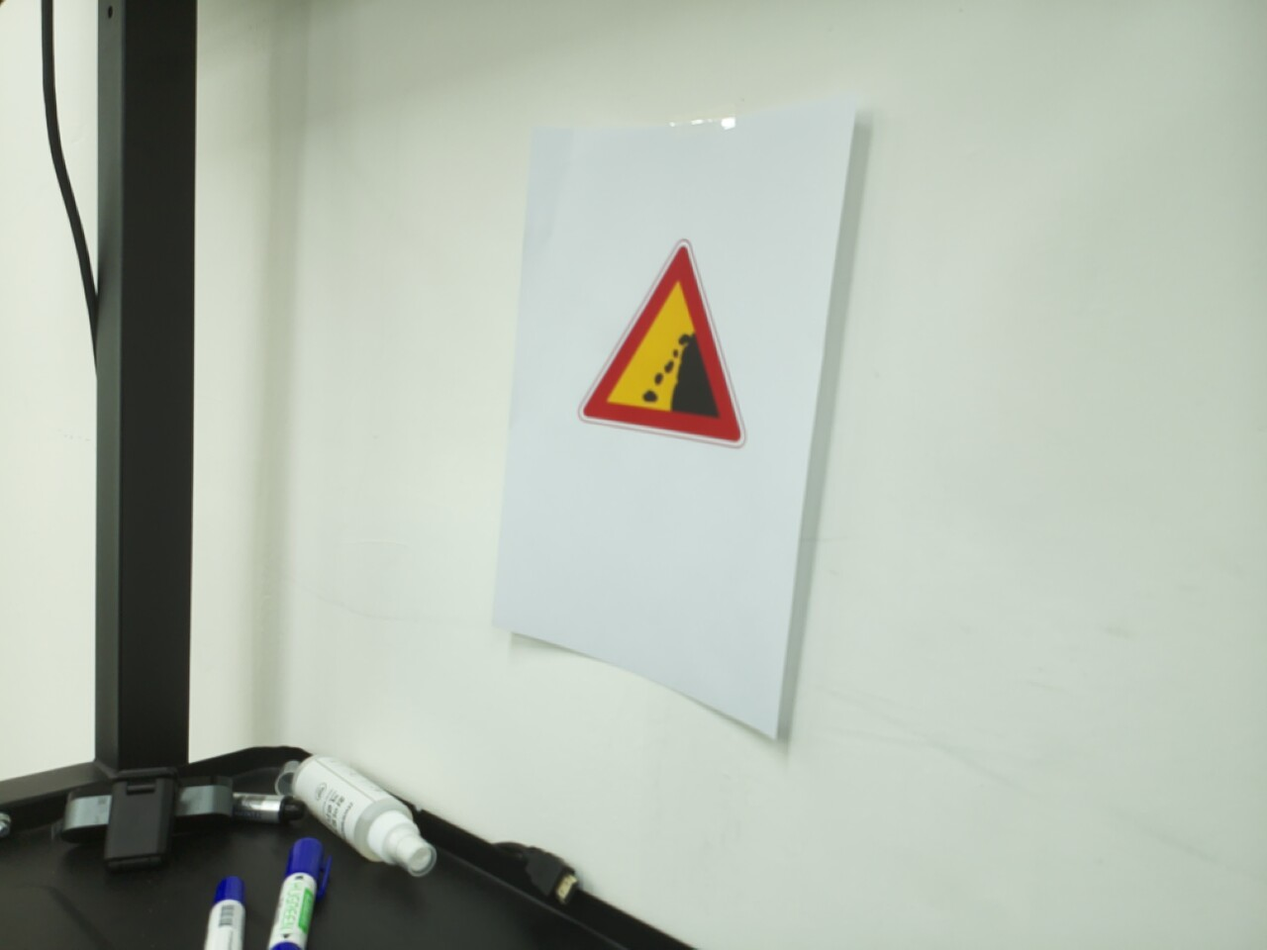falling_rocks: (576, 238, 747, 450)
